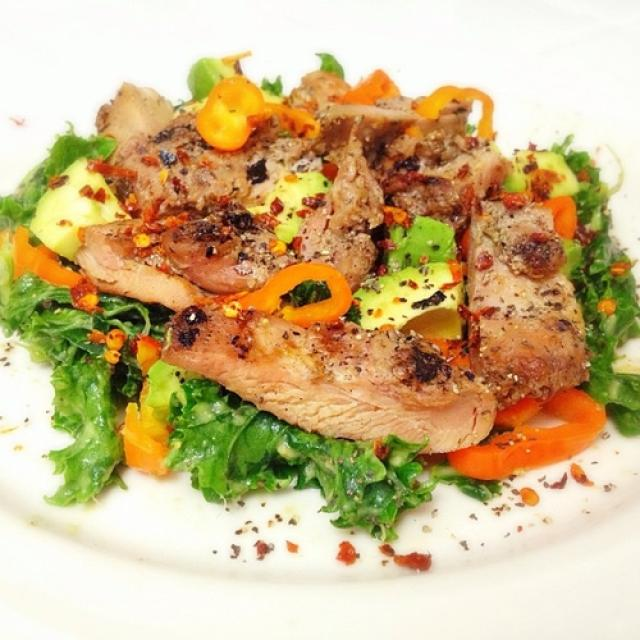鸡肉料理 含炸鸡: (22, 48, 591, 564)
